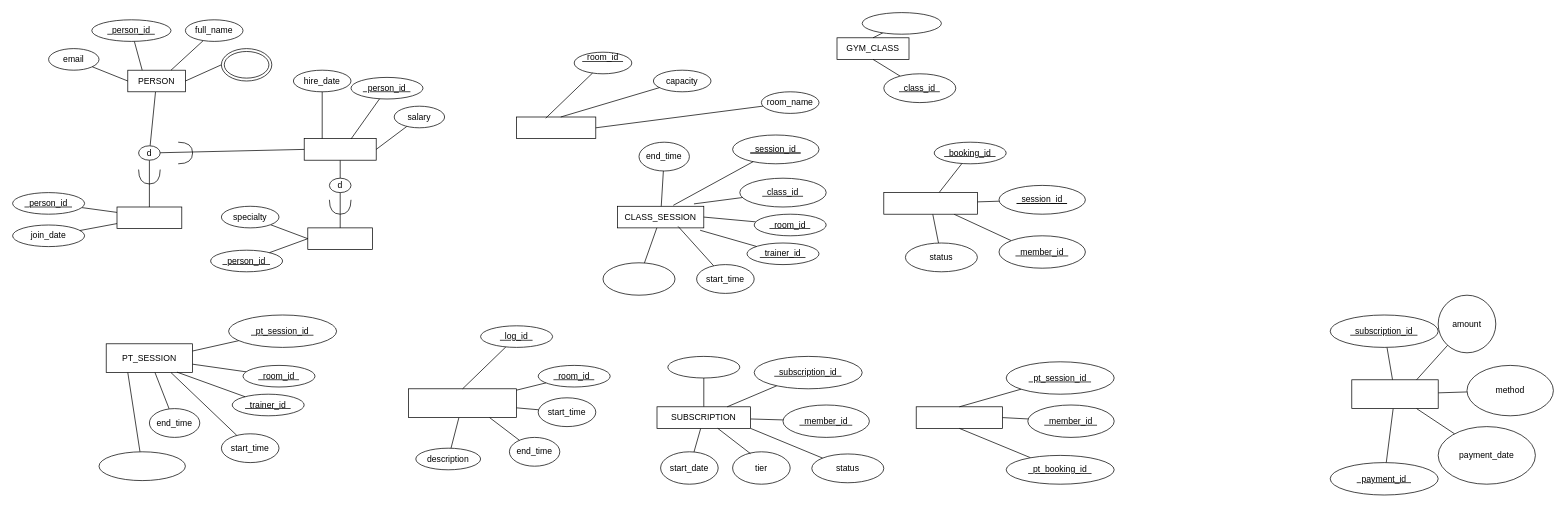
The diagram is 1566 pixels wide and 508 high, and some of its shapes have lost their labels. The centre of each missing label's shape, as x and y in pixels:
"CLASS_BOOKING" belongs at point (930, 203).
"EMPLOYEE" belongs at point (339, 149).
"end_date" belongs at point (703, 367).
"MAINTENANCE_LOG" belongs at point (462, 403).
"max_capacity" belongs at point (638, 278).
"MEMBER" belongs at point (149, 217).
"name" belongs at point (901, 23).
"PAYMENT" belongs at point (1394, 394).
"phone" belongs at point (246, 64).
"PT_BOOKING" belongs at point (959, 417).
"ROOM" belongs at point (556, 127).
"session_type" belongs at point (141, 466).
"TRAINER" belongs at point (340, 238).
